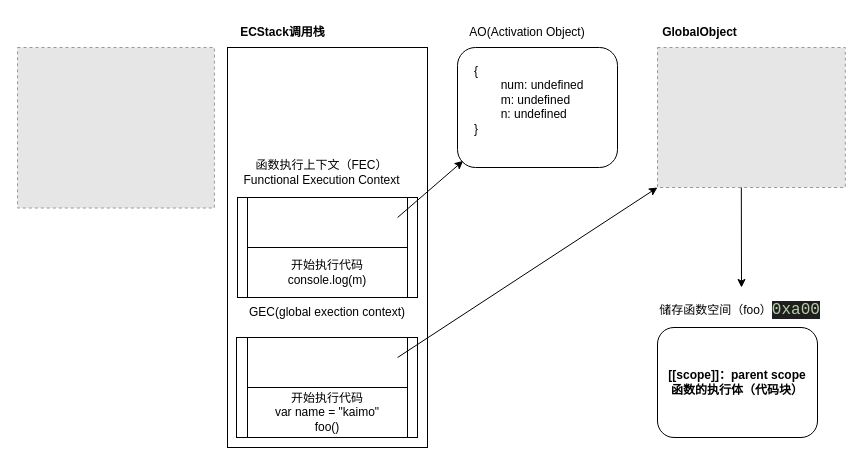
Some shapes in this 863 by 465 pixel diagram are drawn without their labels. Grey dashed boxes stand in for pictures. The shapes that lost their labels are listed below. From the top down, each one's centre as x and y in pixels, then its label:
pixel 327 222: VO(variable object)：AO
pixel 327 362: VO(variable object)：GO
